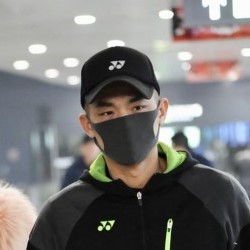mask: (81, 107, 161, 163)
